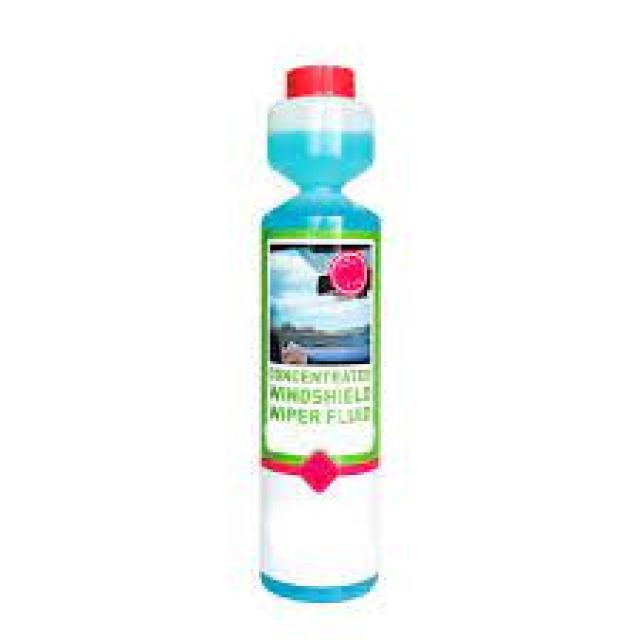winwinshield_washer: (252, 62, 389, 610)
